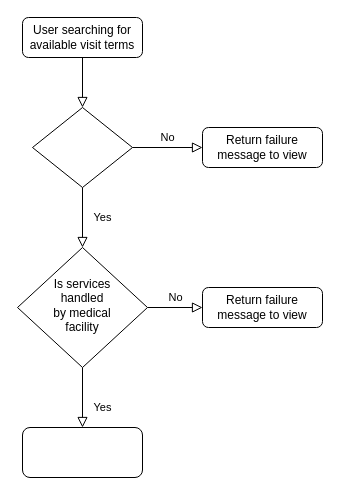
This 340x495 diagram has some shape labels left out. The shapes that lost their labels are listed below. From the top down, each one's centre as x and y in pixels, then its label:
At pixel 82 147: "Are all parameters defined".
At pixel 82 452: "Search for available terms in medical facility".
